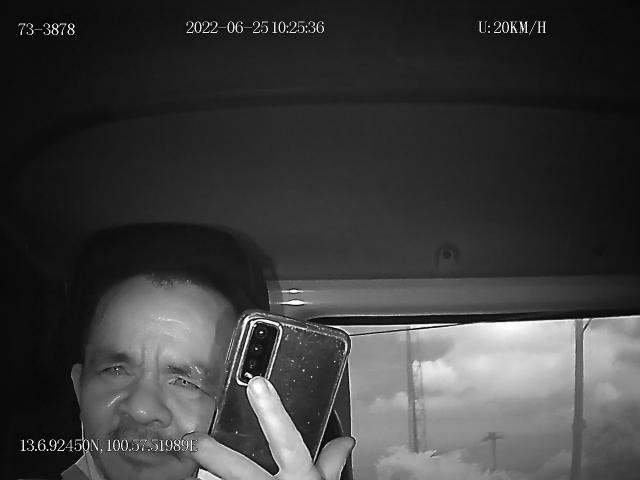PhoneUse: (200, 310, 350, 480)
SafeDriving: (160, 361, 209, 396), (88, 352, 138, 386)
